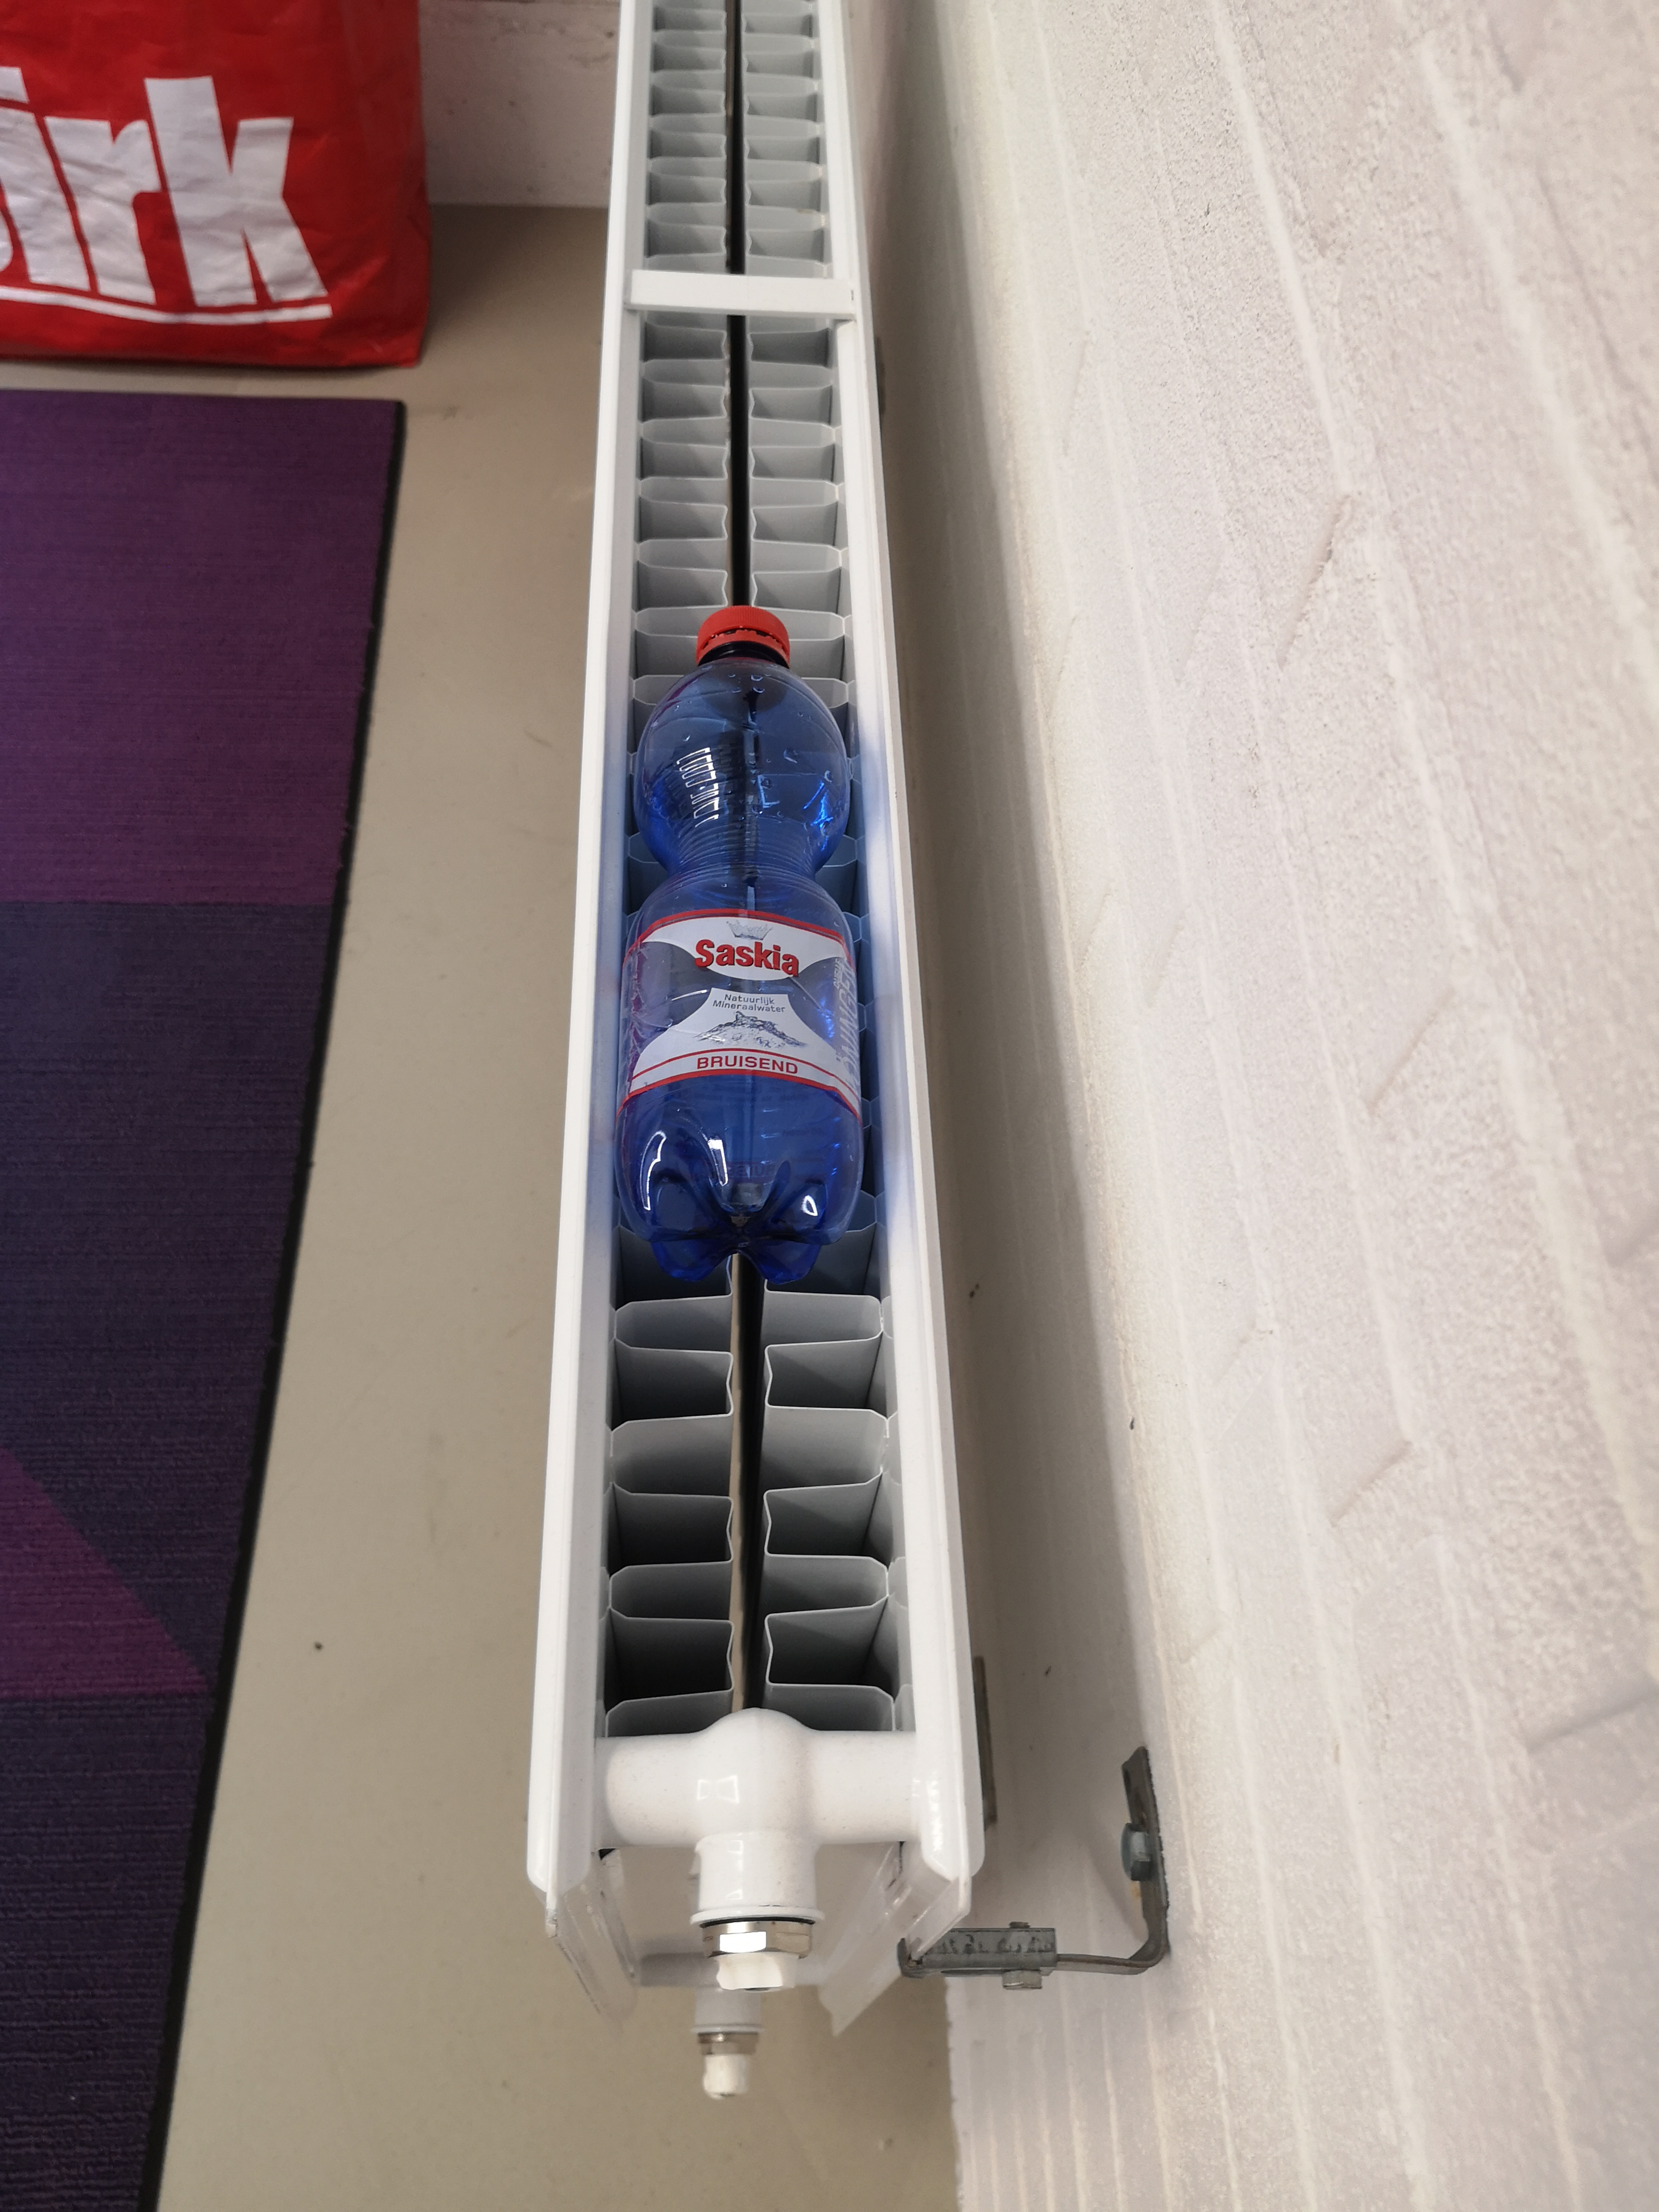plastic_bottle: (596, 566, 884, 1284)
